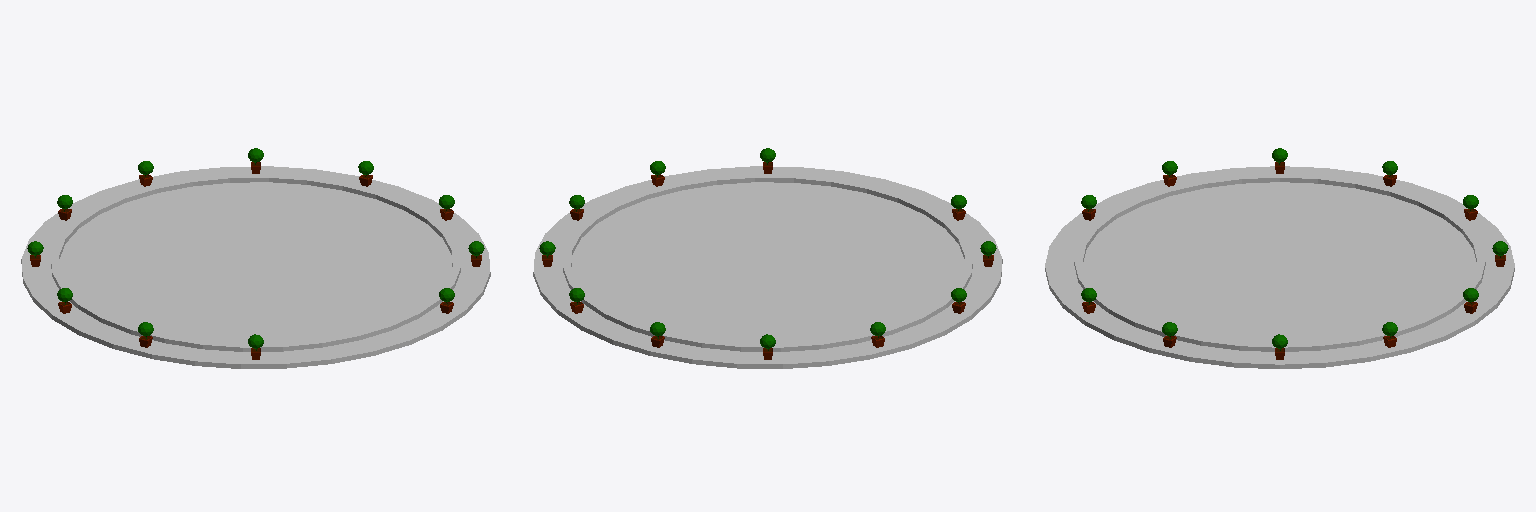
3 renders of one model, left to right at view 1: azimuth 30°, elevation 25°; view 2: azimuth 150°, elevation 25°; view 3: azimuth 270°, elevation 25°, orthographic.
Parts seen in each view (by area): view 1: Circle, vase.011_Plane.013; view 2: Circle, vase.011_Plane.013; view 3: Circle, vase.011_Plane.013.
Boxes of the visible parts, x1,y1,x2,y2 form: Circle: [21, 166, 490, 368]; vase.011_Plane.013: [27, 148, 484, 359]; Circle: [533, 166, 1002, 368]; vase.011_Plane.013: [539, 148, 996, 359]; Circle: [1045, 166, 1514, 368]; vase.011_Plane.013: [1081, 148, 1508, 359].
Size of the model in its own units: 47.67 by 3.15 by 47.67.
5 materials, 5 textured.